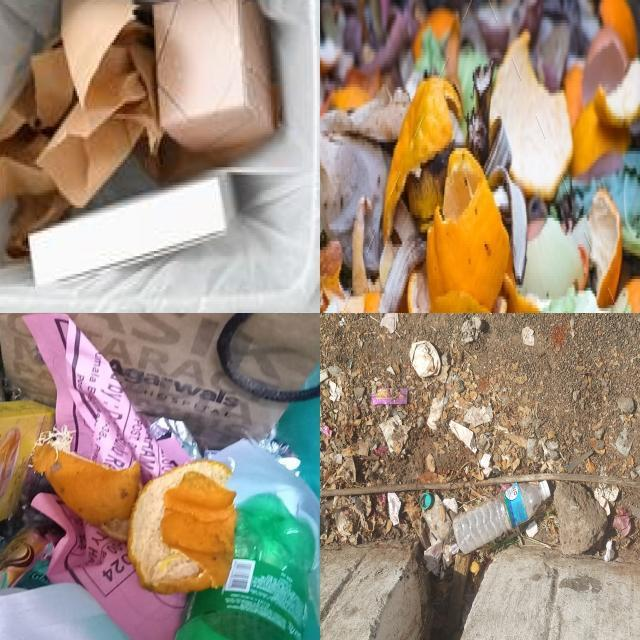Background: (320, 313, 640, 640), (493, 514, 494, 516)
Garbage: (0, 313, 320, 640), (320, 0, 640, 313)
Nylog_sting: (217, 313, 320, 402)
Plastic: (208, 440, 320, 624), (419, 492, 435, 511)
Plastic_Bag: (422, 494, 453, 542)
Plastic_bottle: (175, 492, 316, 640), (453, 481, 550, 553)
Plastic_wraper: (371, 387, 408, 405)
